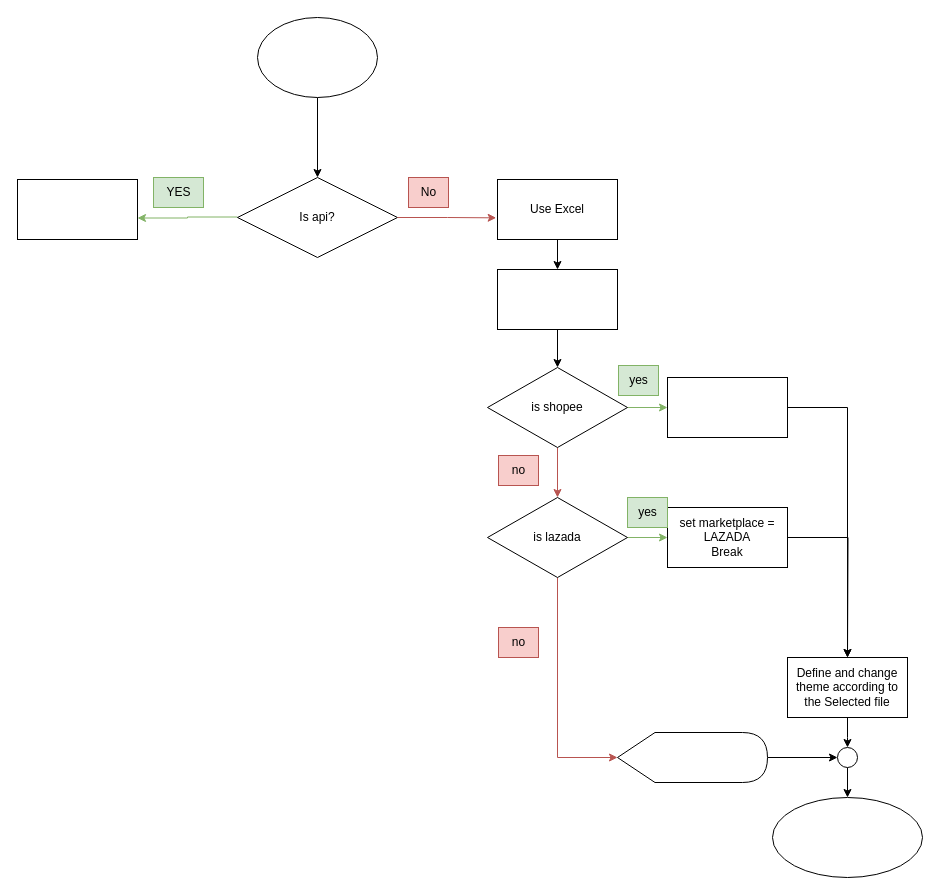
Some shapes in this 940 by 895 pixel diagram are drawn without their labels. The centre of each missing label's shape, as x and y in pixels:
"end" goes at pixel 847 837.
"Error cannot define marketplace" goes at pixel 692 757.
"SelectFile" goes at pixel 557 299.
"set marketplace = SHOPEE Break" goes at pixel 727 407.
"Start" goes at pixel 317 57.
"use api" goes at pixel 77 209.
